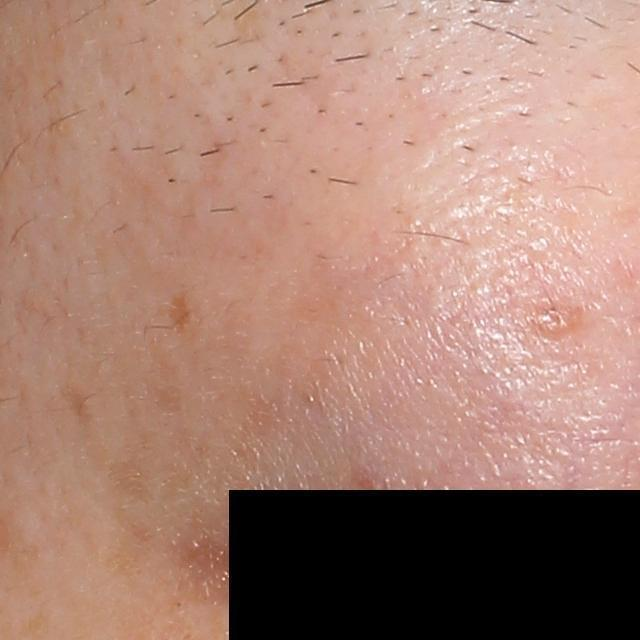melasma: (171, 284, 196, 336)
